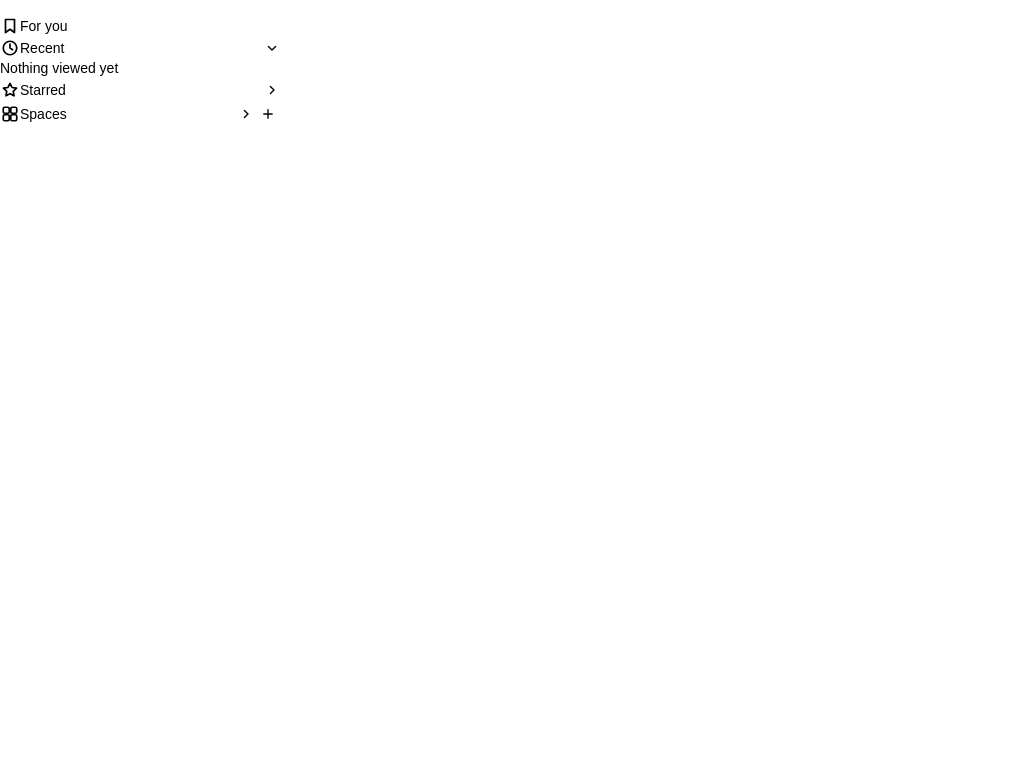
it: JL-156 creating from the sidebar › opens the shared create dialog
What coordinates should you click on to do the following:
click the button named "Create a space"
I would click on:
 (268, 114)
Its box is [256,102,280,126].
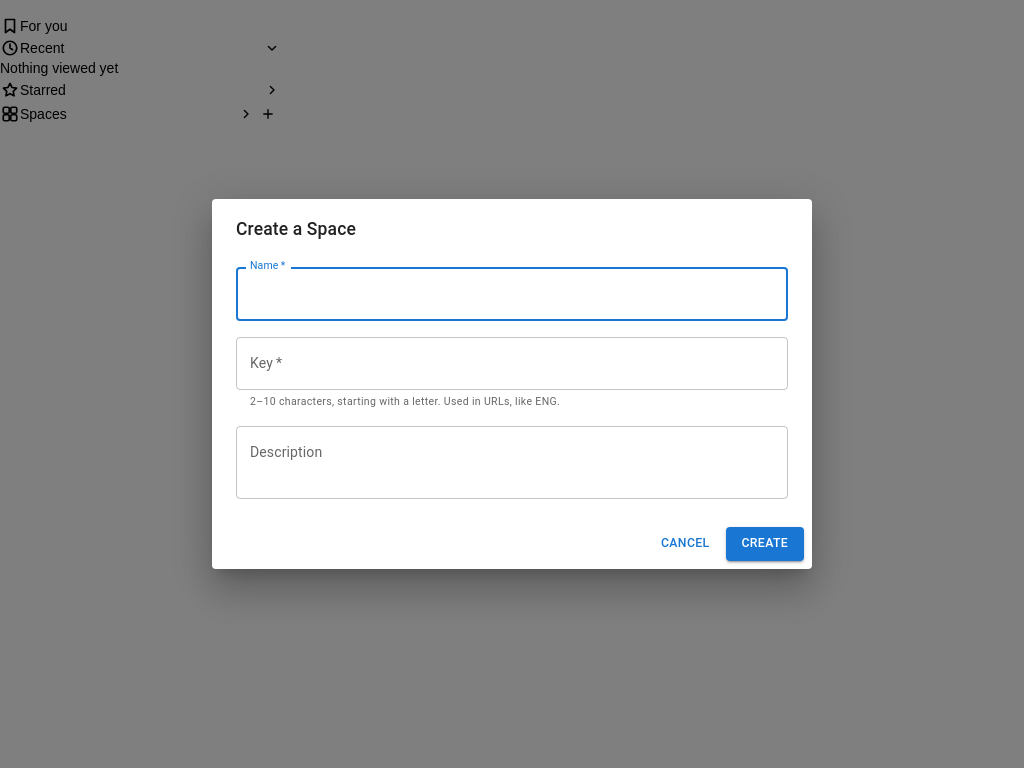
Now the heading "Create a Space" is shown, box [236,219,356,239]
